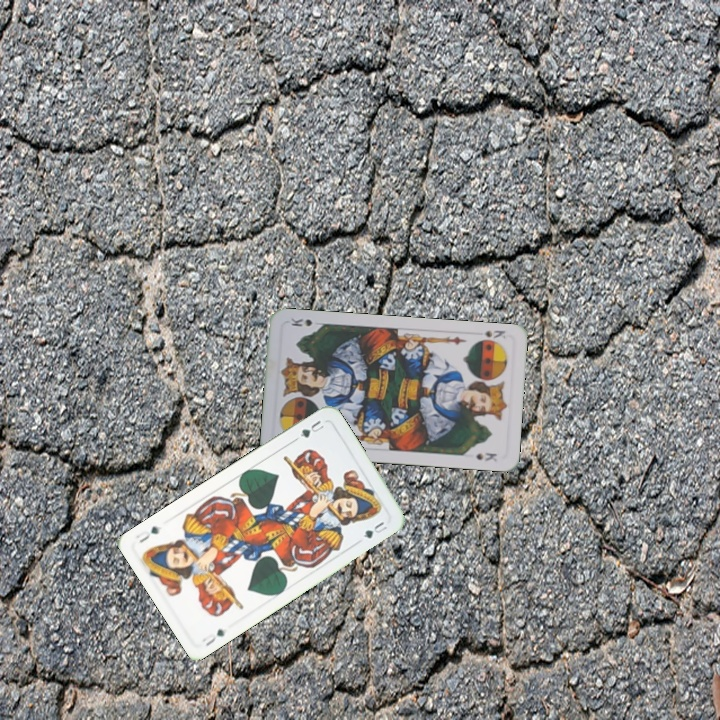GU: (296, 416, 327, 440), (198, 625, 227, 649)
SK: (481, 326, 508, 341)
